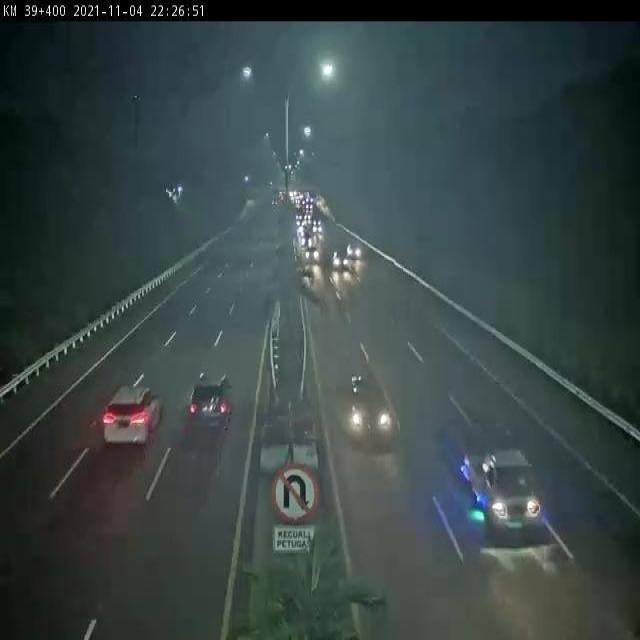ARABA: (342, 374, 393, 449), (101, 388, 161, 447), (190, 370, 235, 434)
KAMYONET: (459, 438, 540, 534)
